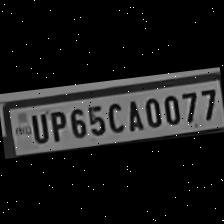0: (139, 92, 163, 128), (158, 89, 182, 125)
5: (84, 99, 107, 135)
6: (65, 103, 87, 139)
7: (196, 84, 220, 121), (177, 86, 200, 122)
A: (121, 95, 144, 132)
C: (102, 97, 125, 133)
P: (46, 106, 68, 142)
U: (24, 109, 48, 144)
